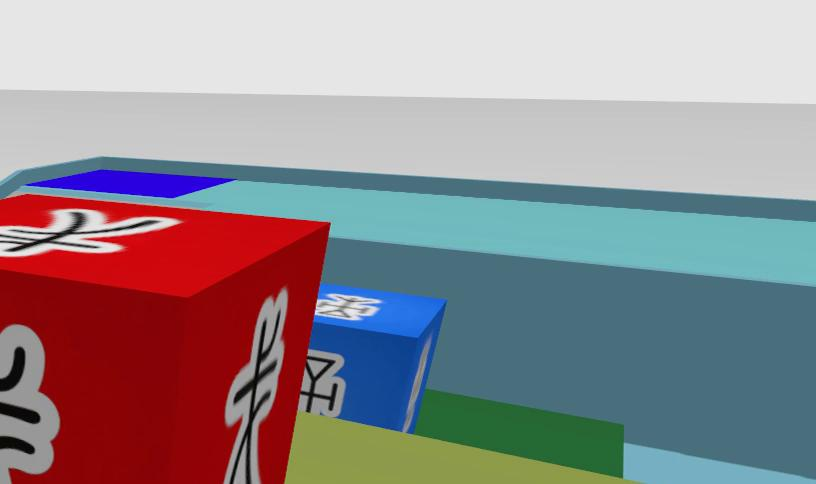KFS_FAKE: (224, 289, 286, 484), (0, 325, 59, 484), (0, 208, 183, 258)
KFS_REAL: (299, 282, 447, 434), (401, 334, 432, 433), (301, 350, 344, 415), (315, 293, 382, 322)
